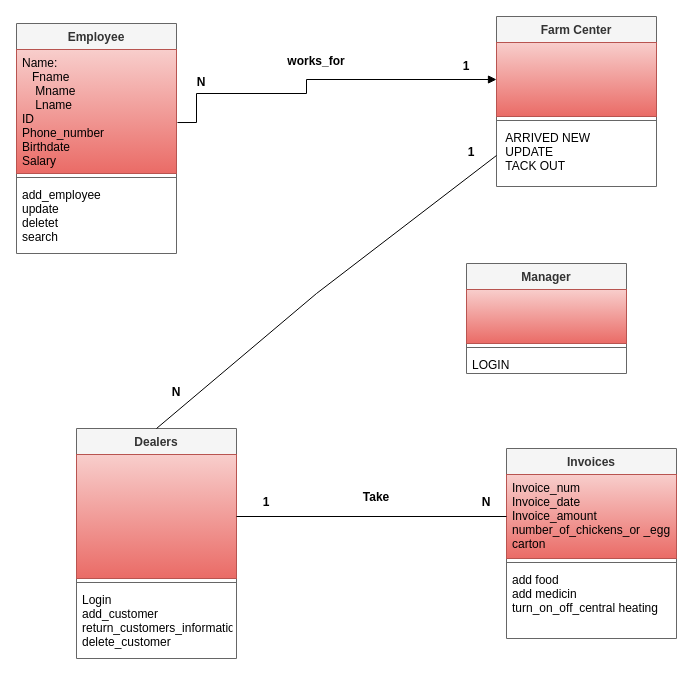
Image size: 693x675. Some labels were removed from this diagram. The centre of each missing label's shape, as x and y in pixels:
"FARM_ID LEGHORN_CHICKEN CARTON_NUM BROILERS_CHICKEN" goes at pixel 576 79.
"ID USERNAME PASSWARD" goes at pixel 546 316.
"Name: Fname Lname id phone_number address Username Passward" goes at pixel 156 516.
